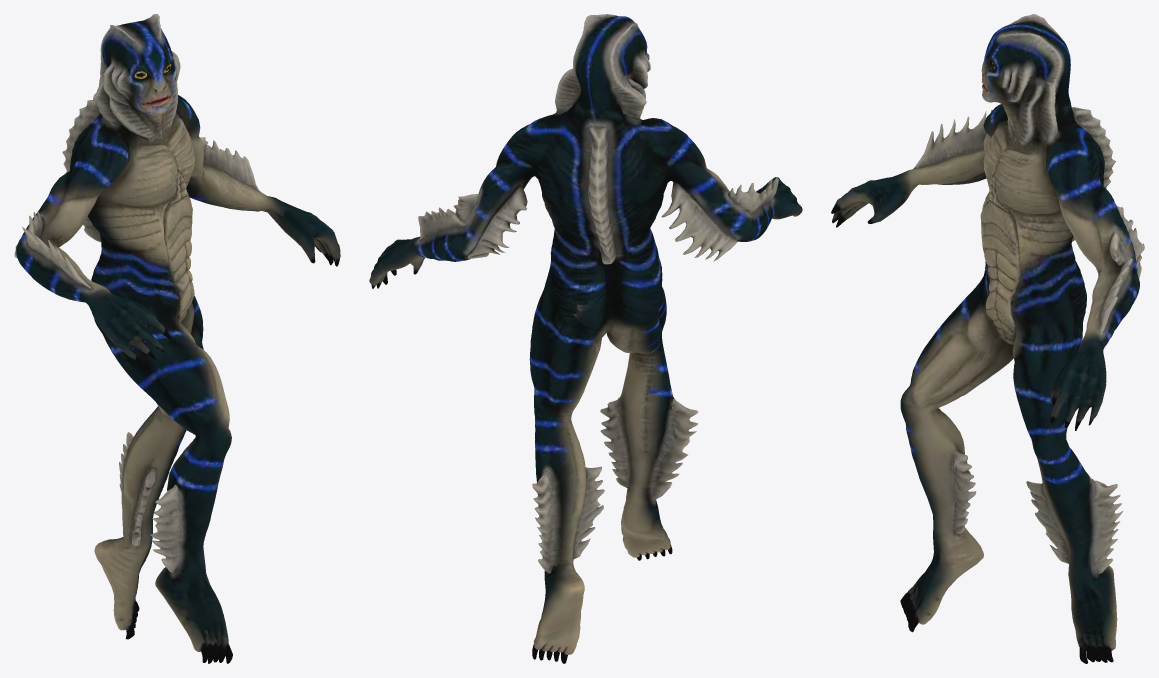
File: MZ4250 - SeaSpawn_1a.glb
3 renders of one model, left to right at view 1: azimuth 30°, elevation 25°; view 2: azimuth 150°, elevation 25°; view 3: azimuth 270°, elevation 25°, orthographic. The views are drawn at different scales.
Visible parts, largest first — view 1: Body.002; view 2: Body.002; view 3: Body.002.
Boxes of the visible parts, x1=… form: Body.002: x1=14, y1=14, x2=340, y2=663; Body.002: x1=369, y1=14, x2=802, y2=663; Body.002: x1=831, y1=14, x2=1144, y2=663.
Size of the model in its own units: 69.61 by 120 by 54.2.
1 material, 1 textured.
